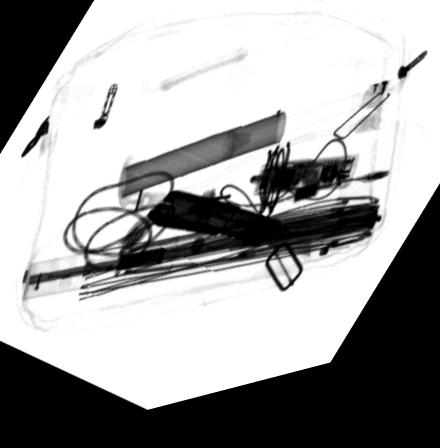Knife: (145, 197, 312, 273)
